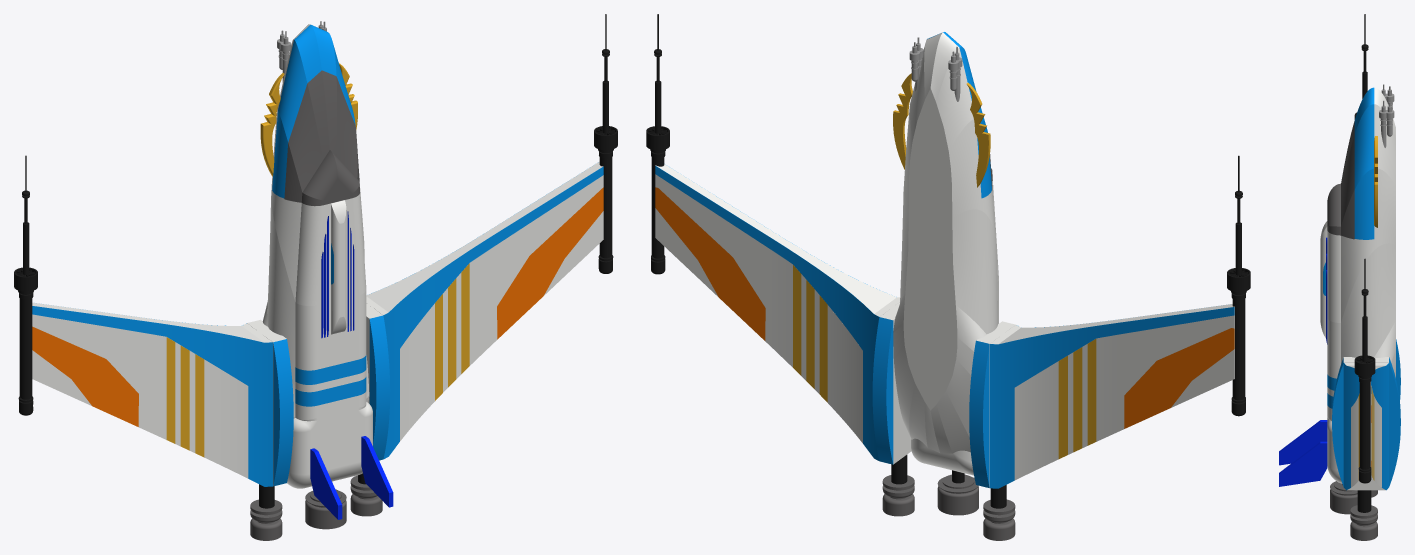
File: BlueWing v2.fbx
3 views of the same model, side by side, from view 1: azimuth 30°, elevation 25°; view 2: azimuth 150°, elevation 25°; view 3: azimuth 270°, elevation 25° (orthographic). The views are drawn at different scales.
Visible parts, largest first — view 1: Body29, Body42, Body102, Body2, Body106, Body81, Body1, Body99, Body110, Body105, Body111, Body62 (+15 smaller); view 2: Body29, Body42, Body102, Body116, Body126, Body130, Body120, Body131, Body121, Body105, Body62, Body143 (+11 smaller); view 3: Body29, Body1, Body42, Body62, Body2, Body132, Body81, Body126, Body56, Body131, Body141, Body44 (+7 smaller).
Boxes of the visible parts, x1,y1,x2,y2 form: Body29: (262, 24, 372, 488); Body42: (366, 161, 603, 440); Body102: (32, 302, 286, 485); Body2: (284, 70, 360, 206); Body106: (32, 306, 272, 486); Body81: (383, 166, 603, 458); Body1: (272, 24, 355, 198); Body99: (497, 187, 603, 339); Body110: (32, 326, 138, 426); Body105: (14, 155, 37, 415); Body111: (273, 339, 293, 486); Body62: (594, 14, 617, 273); Body29: (893, 32, 998, 475); Body42: (655, 164, 911, 464); Body102: (976, 304, 1234, 487); Body116: (990, 307, 1234, 488); Body126: (655, 166, 879, 460); Body130: (655, 187, 765, 340); Body120: (1124, 328, 1234, 428); Body131: (872, 317, 893, 464); Body121: (969, 340, 989, 487); Body105: (1227, 155, 1250, 416); Body62: (646, 14, 669, 274); Body143: (937, 474, 978, 515); Body29: (1320, 87, 1395, 483); Body1: (1354, 87, 1374, 239); Body42: (1343, 357, 1388, 490); Body62: (1354, 258, 1375, 483); Body2: (1327, 121, 1354, 239); Body132: (1279, 441, 1327, 486); Body81: (1343, 363, 1359, 490); Body126: (1371, 363, 1388, 490); Body56: (1332, 358, 1343, 486); Body131: (1389, 357, 1400, 486); Body141: (1279, 420, 1327, 465); Body44: (1350, 505, 1377, 540).
Bounding box in the file's own units: 436 × 344 × 88.52.
